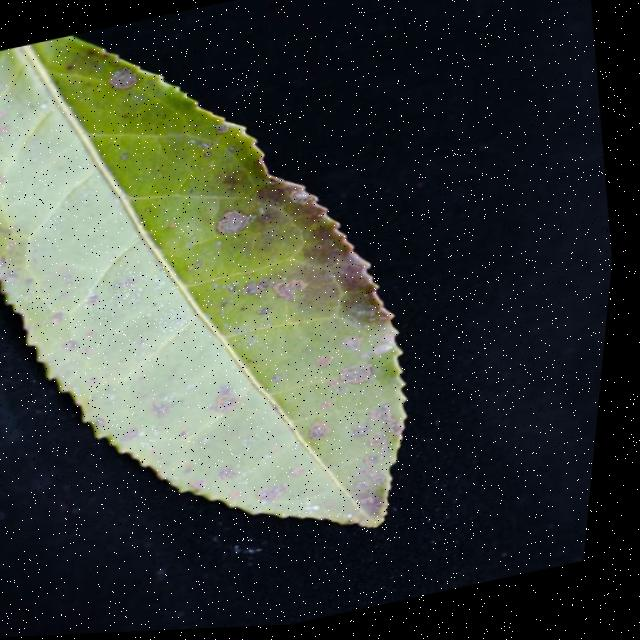Tea red rust: (0, 24, 451, 569)
